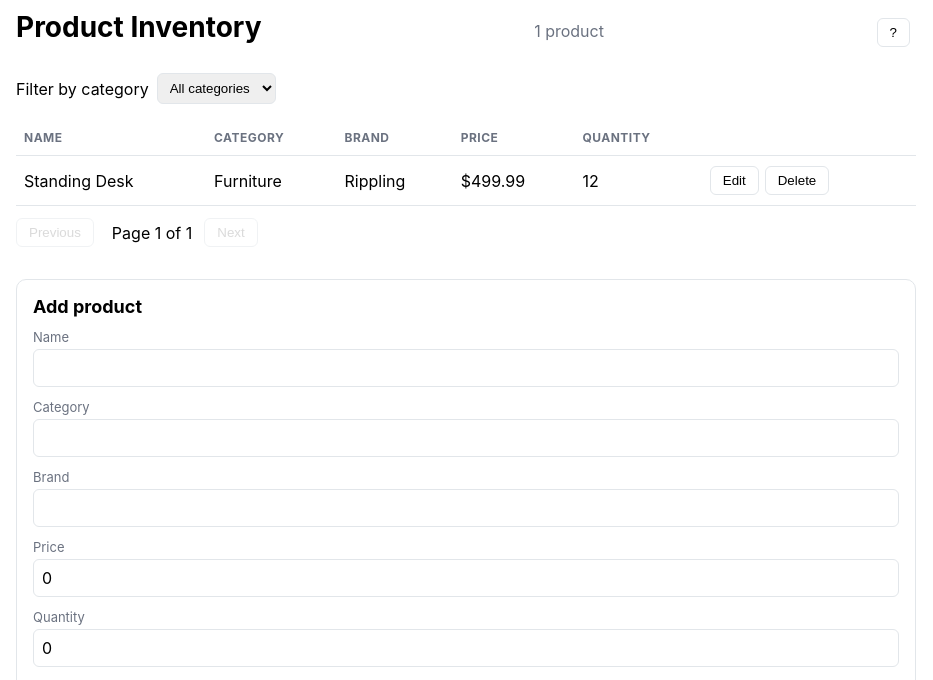
ProductsPage keyboard shortcuts › Ctrl+Enter in the form submits it
This screenshot has width=933, height=680.
Check: the text "Standing Desk" is shown, box [16, 156, 206, 206]
Type "Monitor" into the field labelled "Name". click: (466, 368)
box: [33, 349, 899, 387]
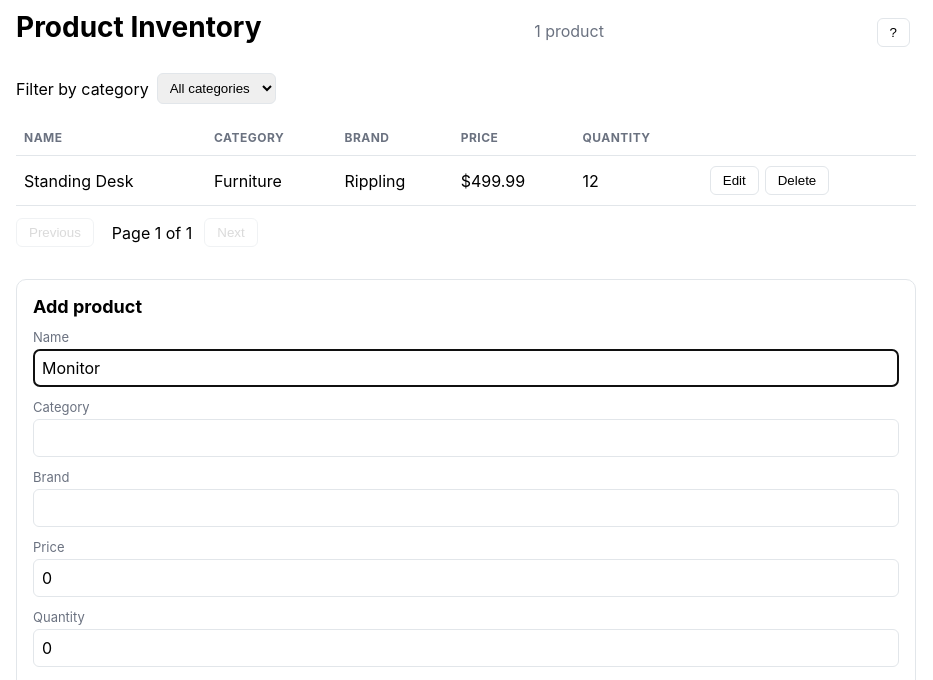
Press Enter in the field labelled "Name", box [33, 349, 899, 387]
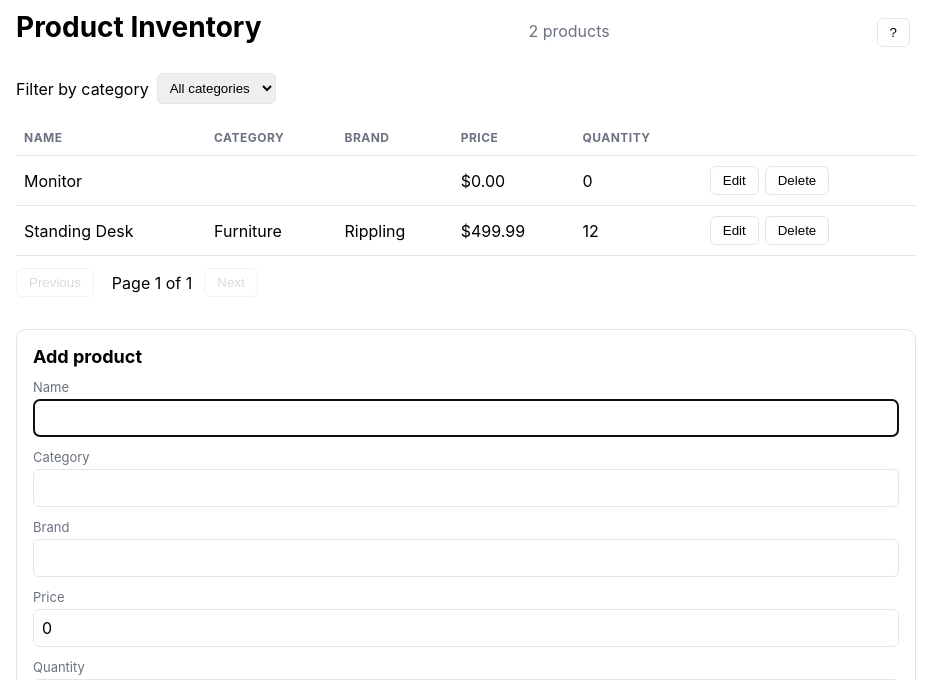
Check: the text "Monitor" is shown, box [16, 156, 206, 206]
